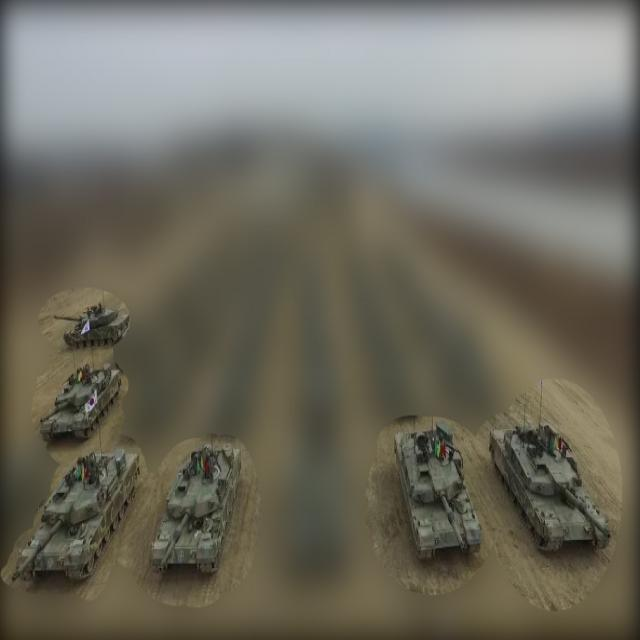tank: (492, 410, 616, 559), (15, 448, 136, 584), (393, 420, 485, 570), (150, 438, 247, 578), (43, 360, 122, 442), (43, 294, 136, 359)
